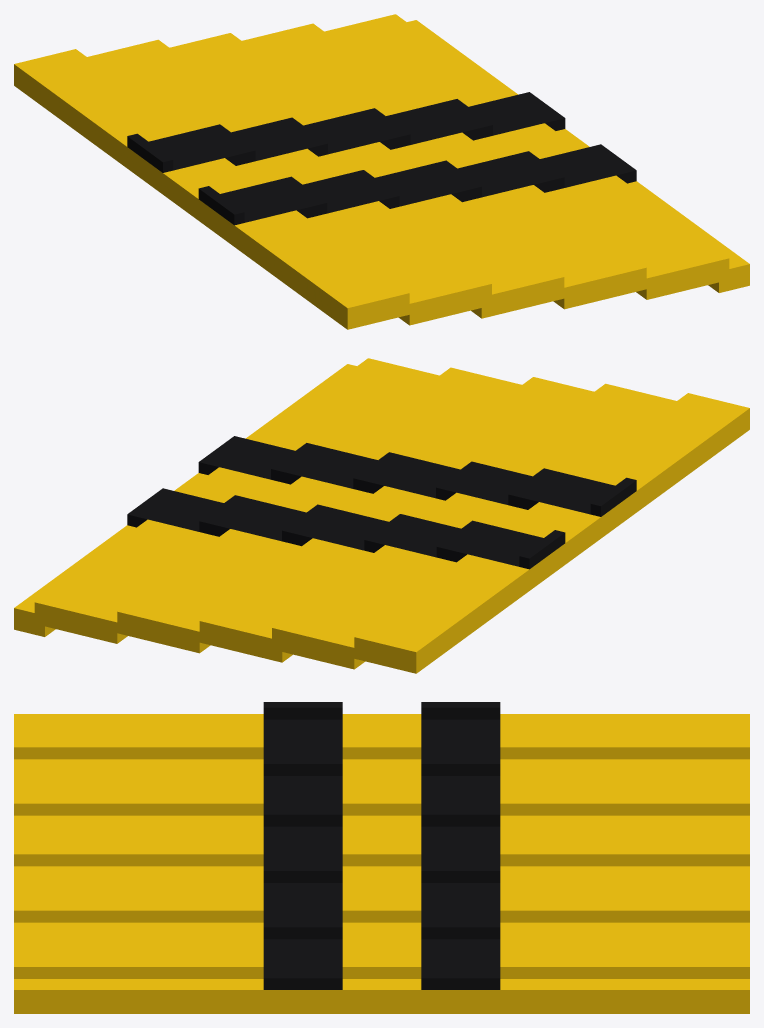
The model's file is sports_car_bonnet.glb.
3 renders of one model, top to bottom at view 1: azimuth 30°, elevation 25°; view 2: azimuth 150°, elevation 25°; view 3: azimuth 270°, elevation 25°, orthographic. The views are drawn at different scales.
Visible parts, largest first — view 1: body:compound; view 2: body:compound; view 3: body:compound.
Part boxes in pixels (left/top/right/bottom): body:compound: left=14, top=14, right=749, bottom=329; body:compound: left=14, top=358, right=749, bottom=673; body:compound: left=14, top=702, right=749, bottom=1013.
Bounding box in the file's own units: 1.22 × 0.25 × 1.75.
